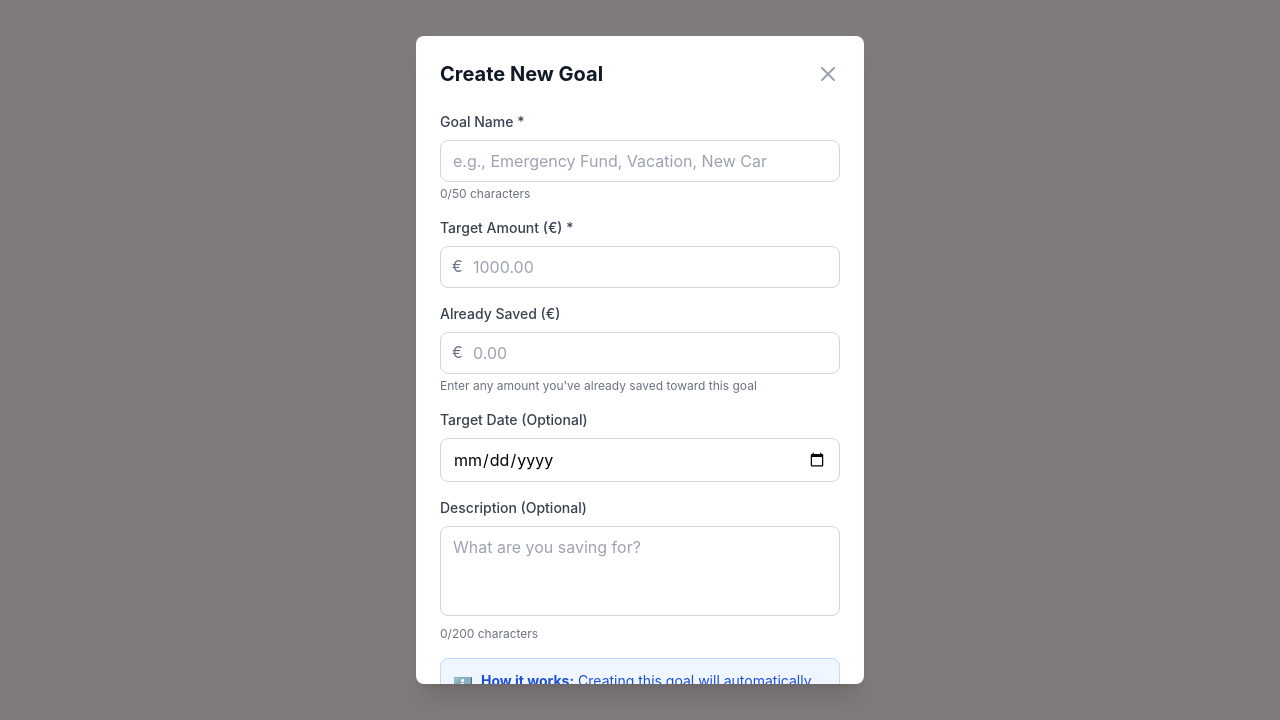
Test case: CreateGoalModal › Input Validation › shows error when target amount exceeds 1,000,000
Type "My Goal" into the field with placeholder "e.g., Emergency Fund, Vacation, New Car" at x=640, y=161, box 440,140 -> 840,182
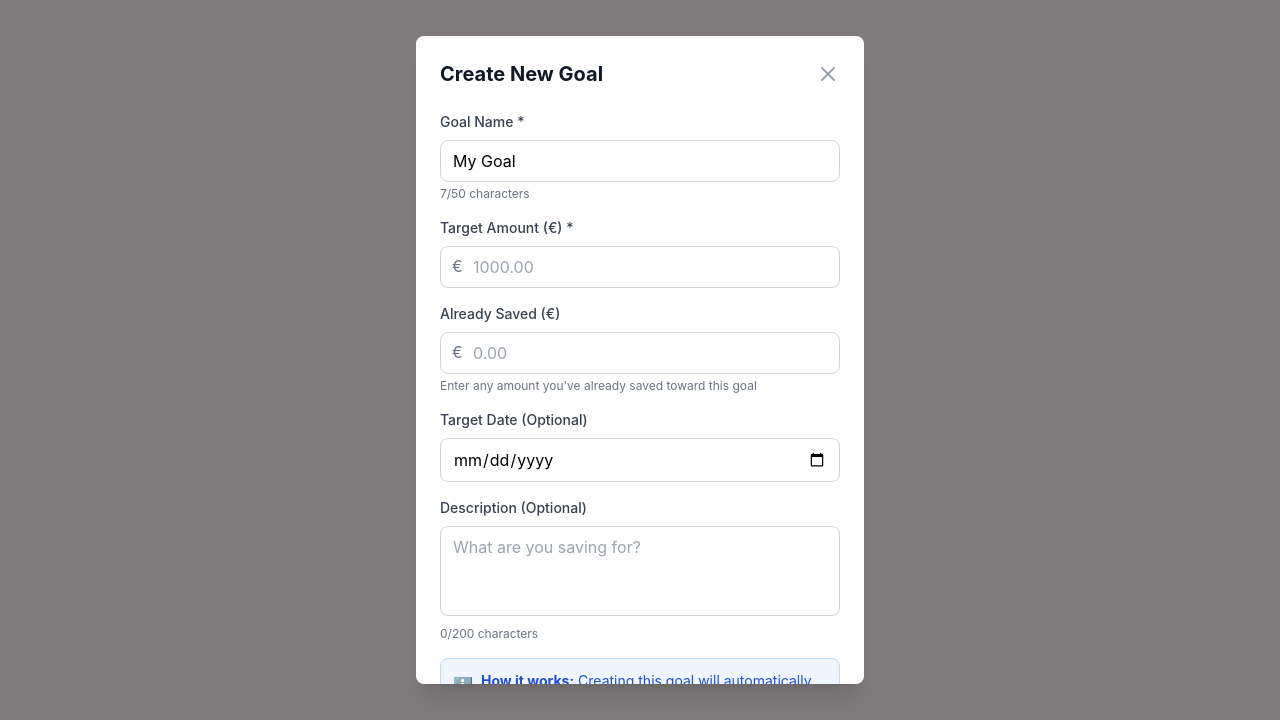
Type "1000001" into the field with placeholder "1000.00" at x=640, y=267, box 440,246 -> 840,288
(page scrolled)
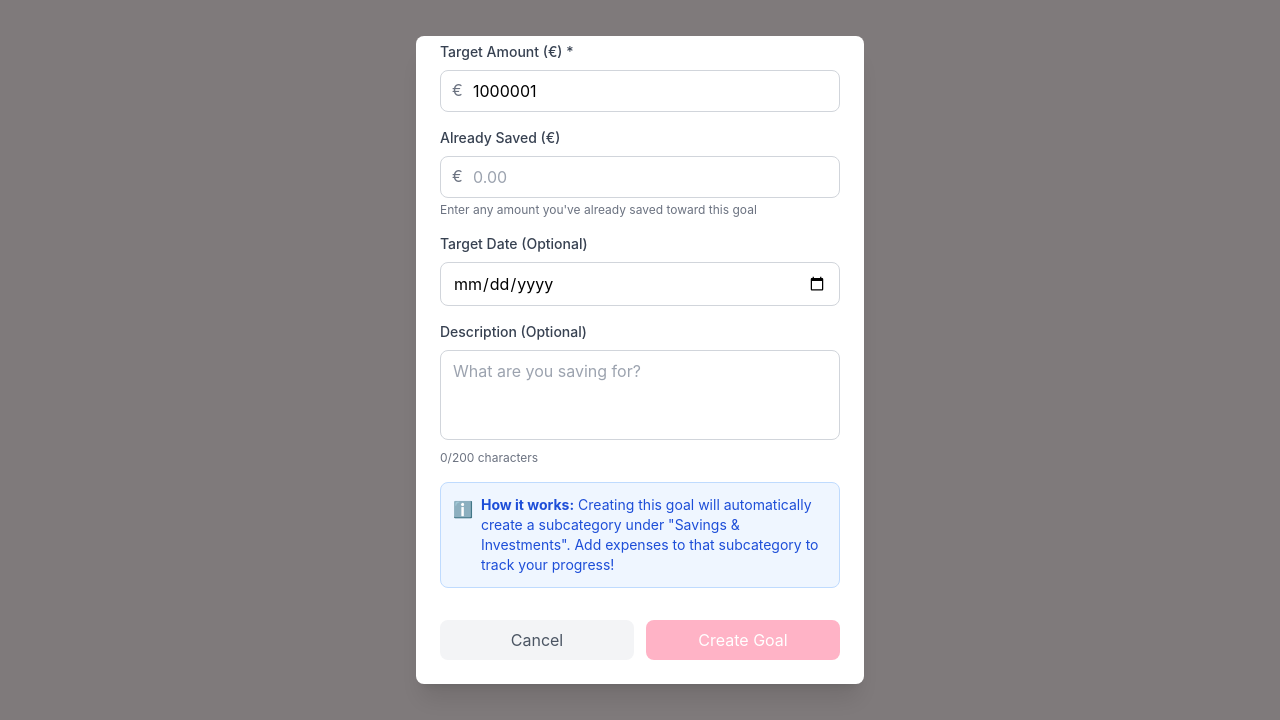
Click the button "Create Goal" at x=743, y=640, box 646,620 -> 840,660
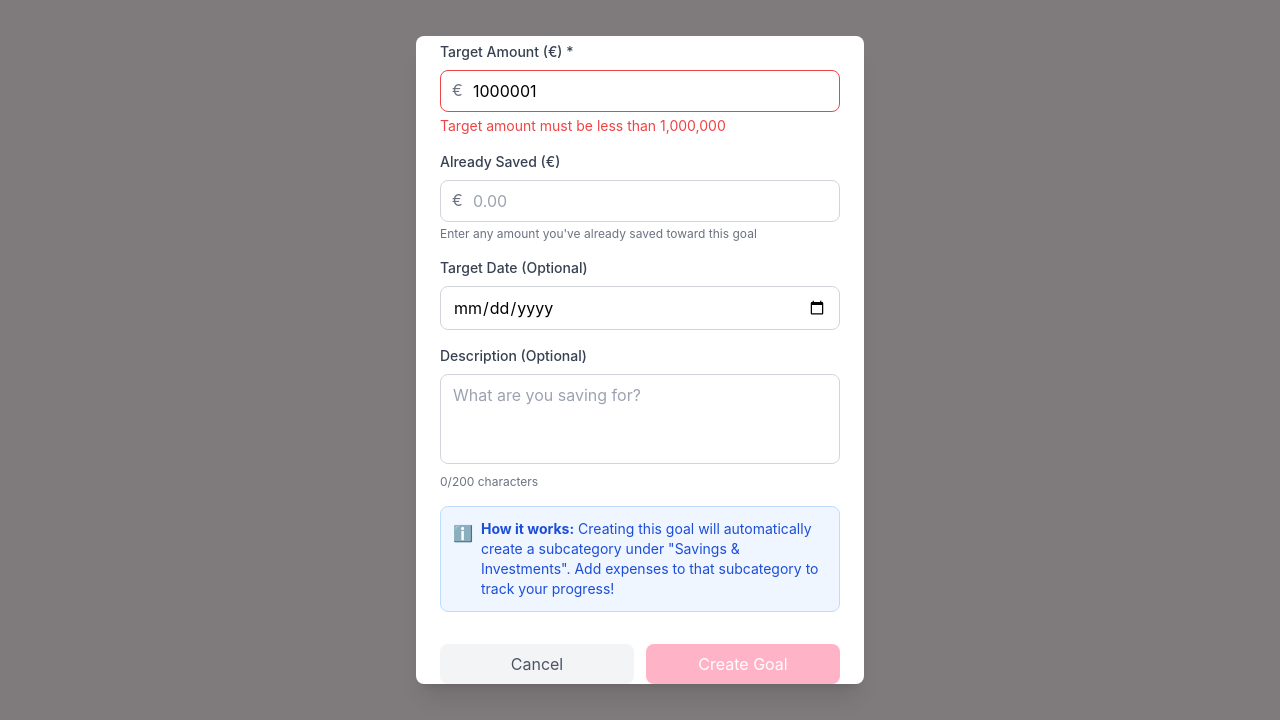
expect the text "Target amount must be less than 1,000,000" is shown: met, box 440,117 -> 726,134
